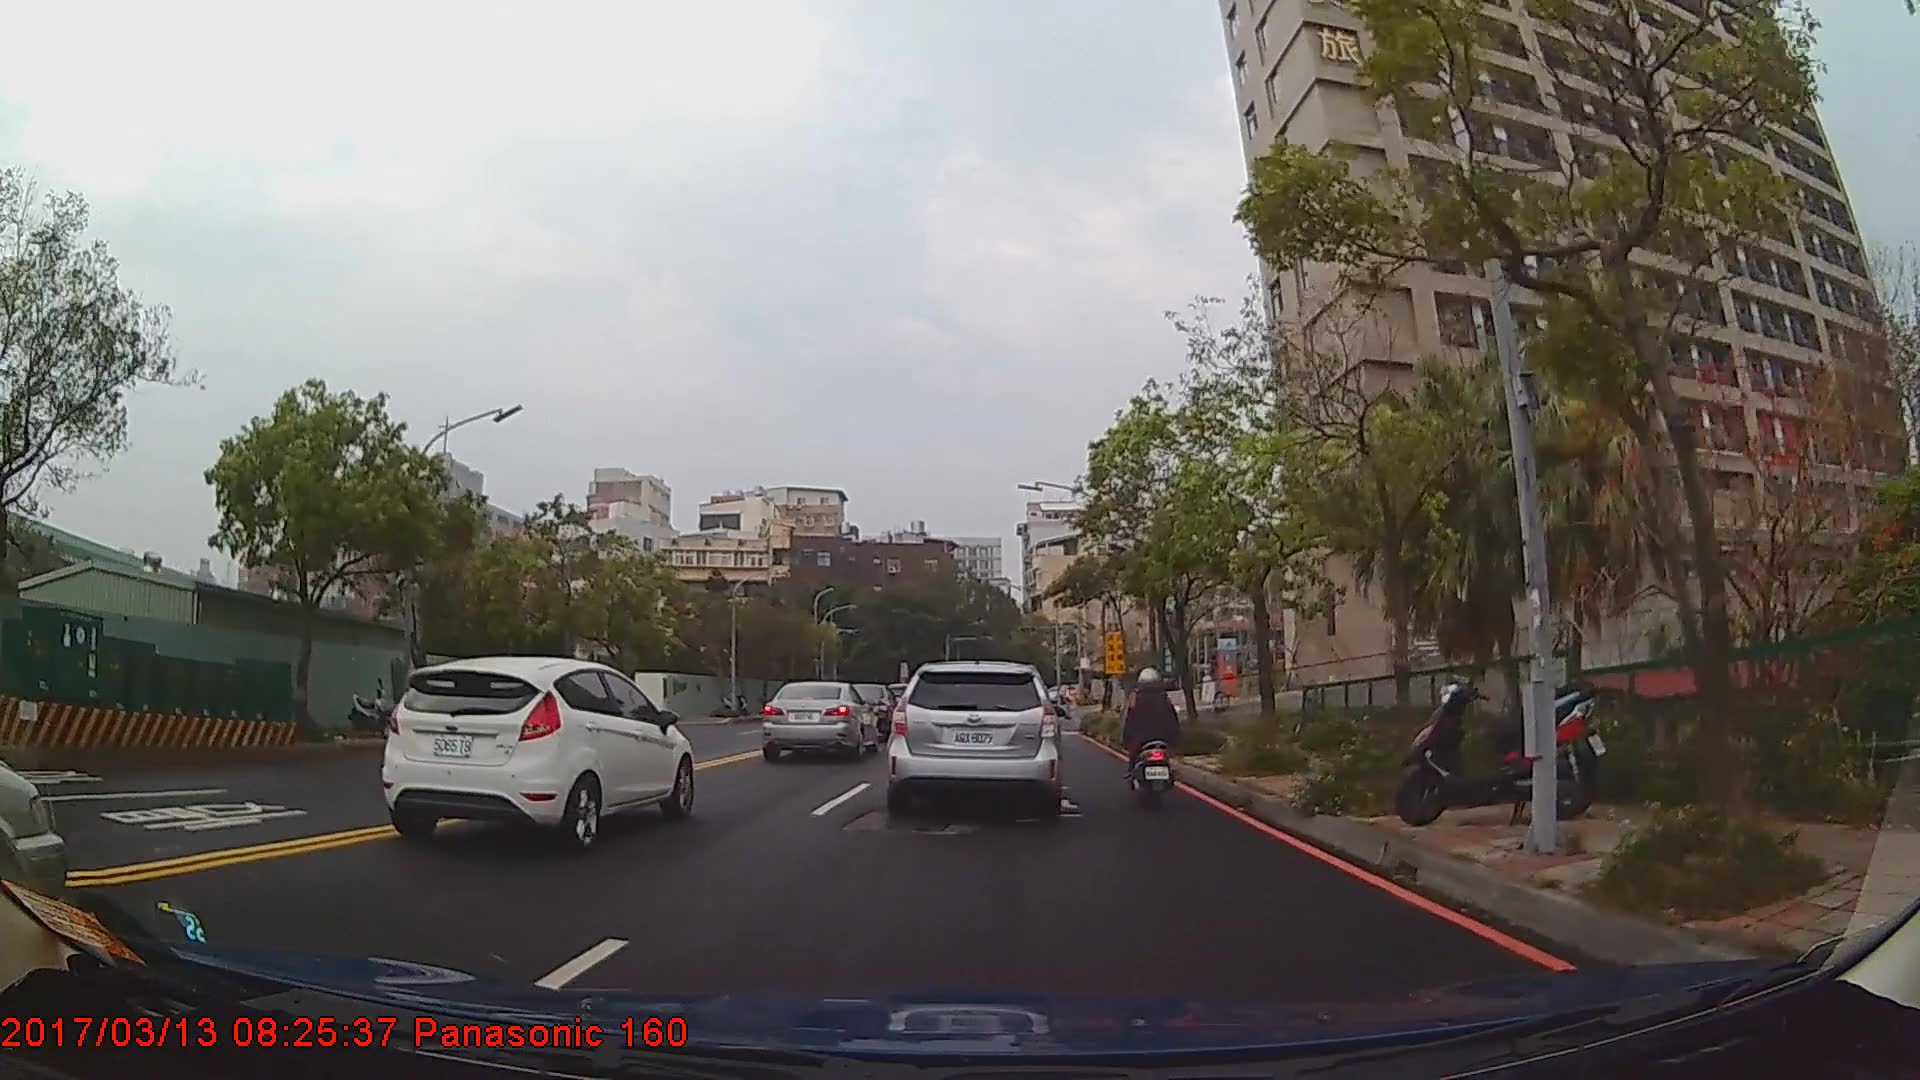rider: (1122, 668, 1180, 811)
vehicle: (379, 656, 693, 846), (887, 661, 1057, 817), (757, 679, 879, 761)
